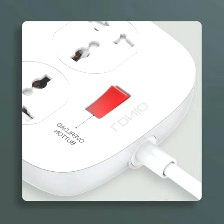three_eye_plug: (21, 21, 198, 200)
